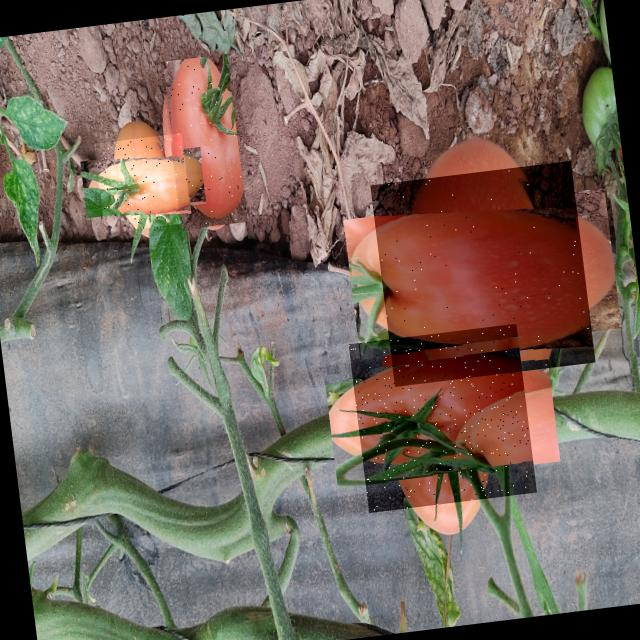Ripe Tomato: (370, 160, 595, 387), (348, 323, 536, 512), (160, 54, 248, 230)
Unripe Tomato: (94, 132, 192, 232)
